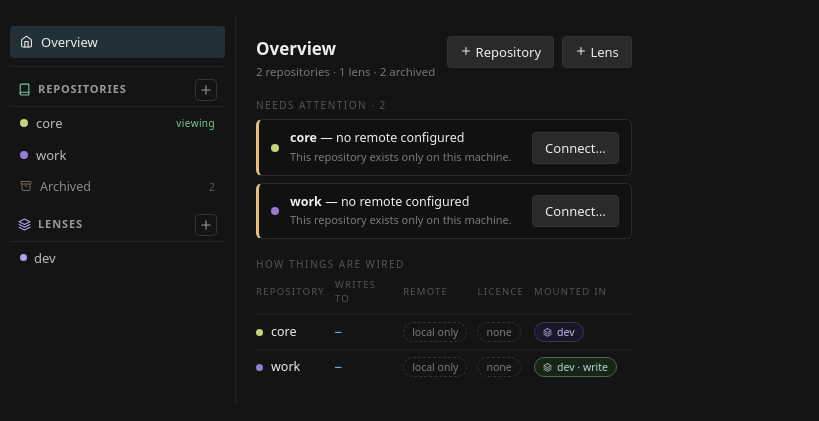
Test: RepoManager › shows what purging an archived repo would give back
This screenshot has width=819, height=421.
Click the button with test id "repomgr-archived": [118, 186] box left=10, top=171, right=225, bottom=202
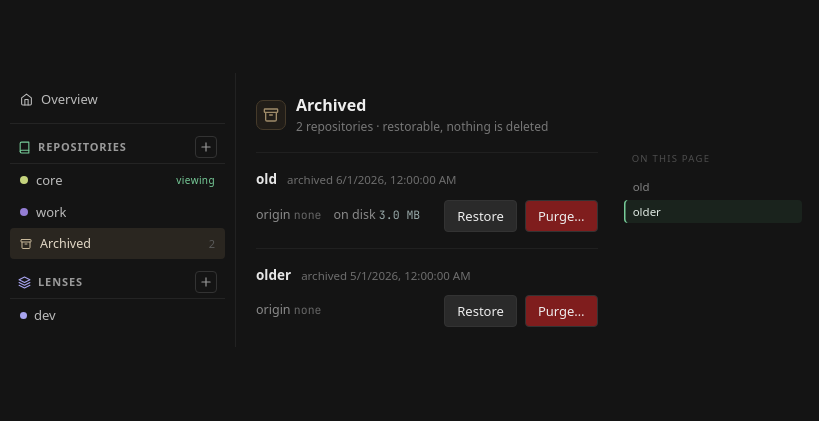
Check: the element with test id "archived-size-old.1" shows "3.0 MB", box left=379, top=207, right=420, bottom=222
